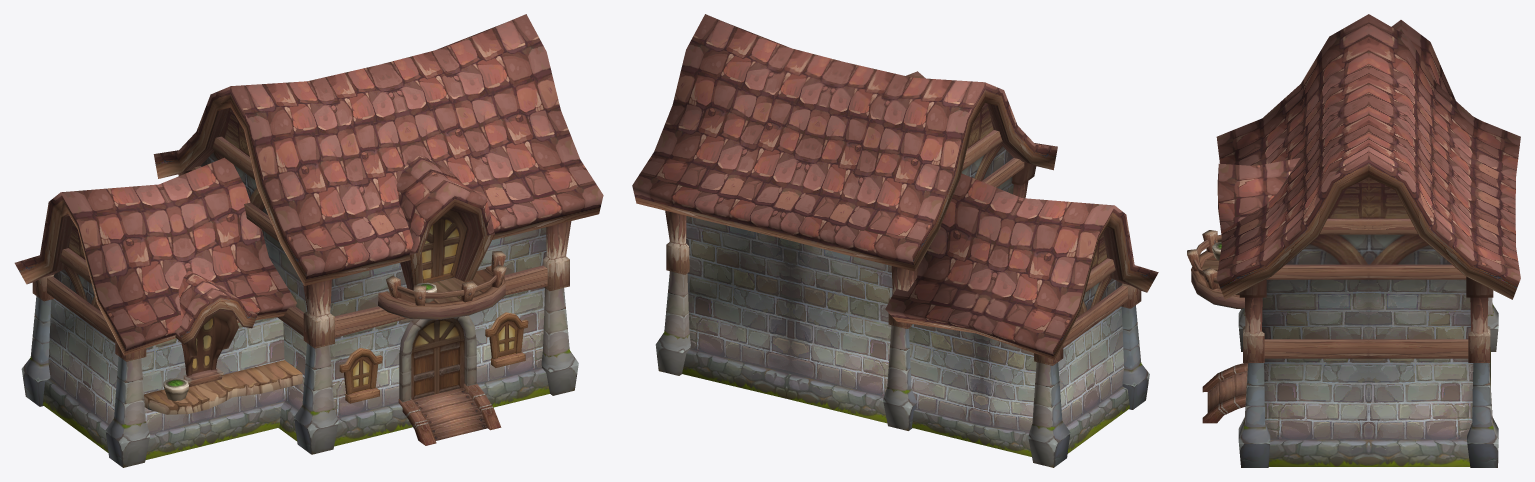
Rendered from Map_06_house08.FBX.
The picture shows the model from 3 angles, left to right: view 1: azimuth 30°, elevation 25°; view 2: azimuth 150°, elevation 25°; view 3: azimuth 270°, elevation 25°; orthographic projection. The views are drawn at different scales.
Parts seen in each view (by area): view 1: Map_06_house08; view 2: Map_06_house08; view 3: Map_06_house08.
Boxes of the visible parts, x1,y1,x2,y2 form: Map_06_house08: [14, 14, 603, 467]; Map_06_house08: [632, 14, 1158, 467]; Map_06_house08: [1187, 14, 1520, 467].
Size of the model in its own units: 1068 by 698 by 738.
